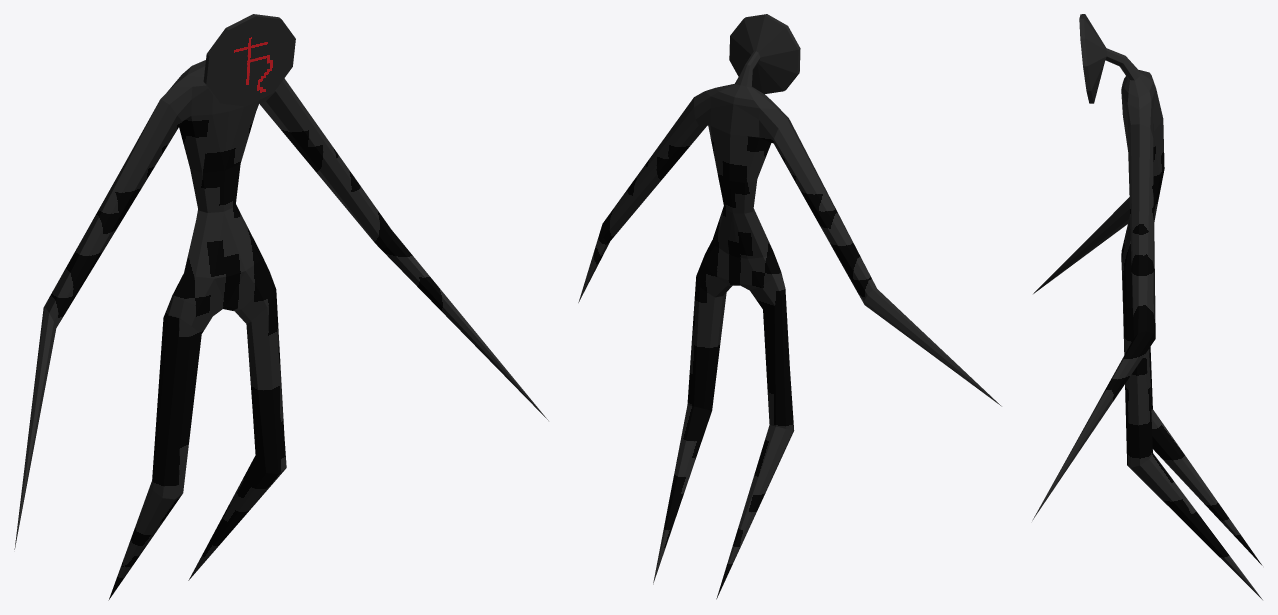
Rendered from Needle.glb.
3 views of the same model, side by side, from view 1: azimuth 30°, elevation 25°; view 2: azimuth 150°, elevation 25°; view 3: azimuth 270°, elevation 25° (orthographic). The views are drawn at different scales.
Visible parts, largest first — view 1: Needle; view 2: Needle; view 3: Needle.
Boxes of the visible parts, x1,y1,x2,y2 form: Needle: (14, 14, 548, 600); Needle: (578, 14, 1001, 599); Needle: (1032, 14, 1262, 599).
Size of the model in its own units: 1.82 by 2.12 by 0.7896.
1 material, 1 textured.
